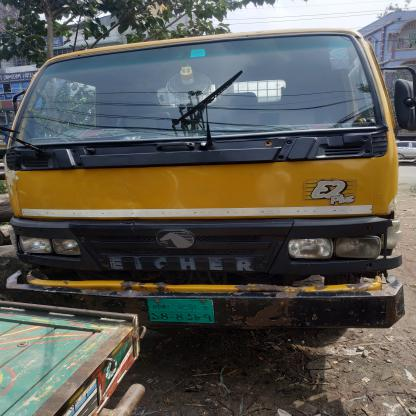license_plate: (144, 298, 221, 325)
